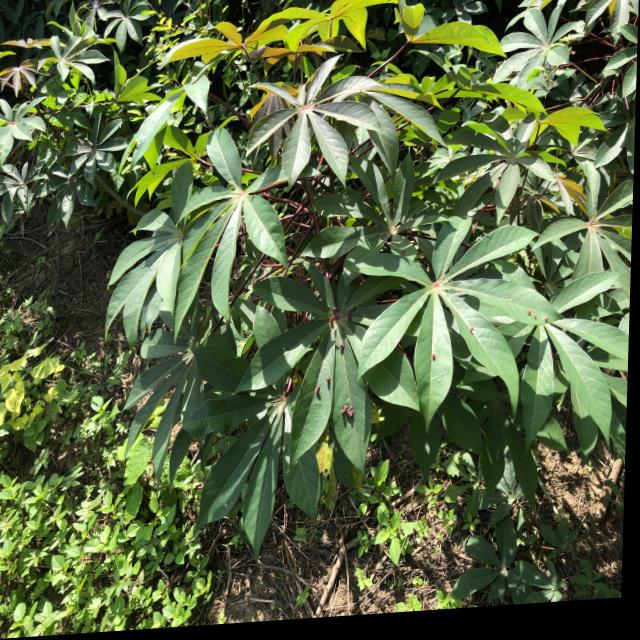Maleza: (1, 368, 111, 637), (14, 519, 217, 620)
Mosca: (523, 303, 556, 330), (341, 396, 359, 423), (324, 301, 340, 329), (311, 381, 323, 400), (338, 337, 352, 353), (429, 349, 442, 365), (343, 307, 356, 323), (321, 371, 334, 387), (468, 319, 479, 336)
